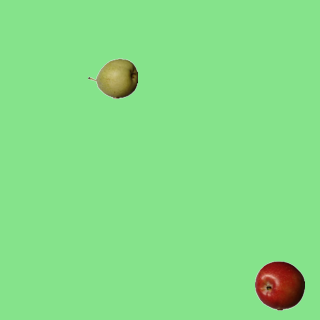Apple Braeburn: (254, 260, 304, 310)
Pear: (87, 53, 137, 103)
